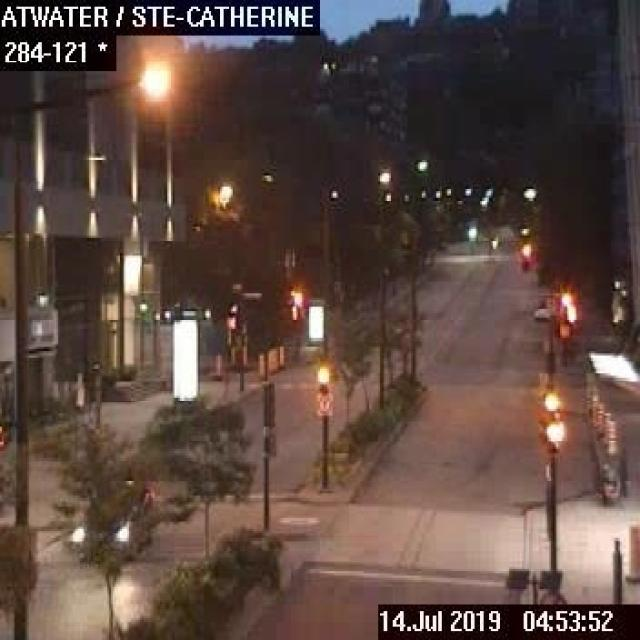construction: (607, 419, 615, 455), (595, 402, 603, 435), (602, 412, 610, 443), (257, 354, 263, 378), (267, 352, 273, 374), (278, 345, 283, 367), (272, 348, 275, 371)
vehicle: (533, 298, 551, 320)
